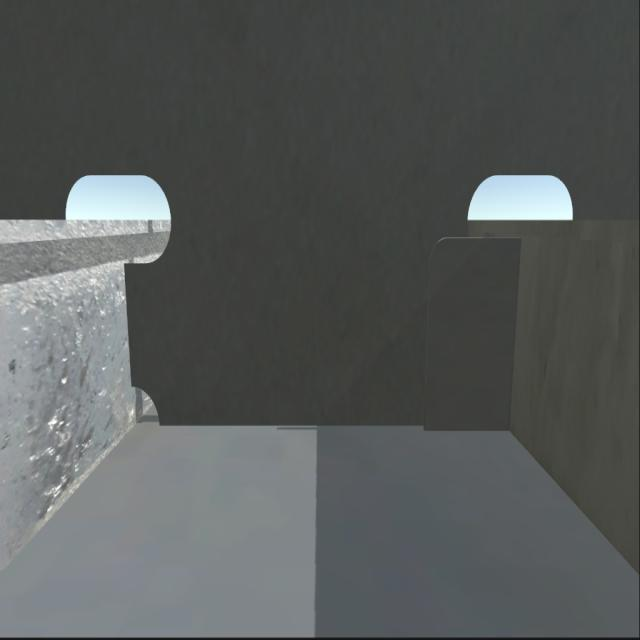fillet_hole: (126, 378, 166, 432)
fillet_yong_jeop_jang: (155, 420, 516, 433)
longi_yong_jeop_jang: (493, 237, 529, 431), (117, 256, 140, 386)
plate_CP05: (421, 237, 523, 432), (310, 589, 311, 590)
